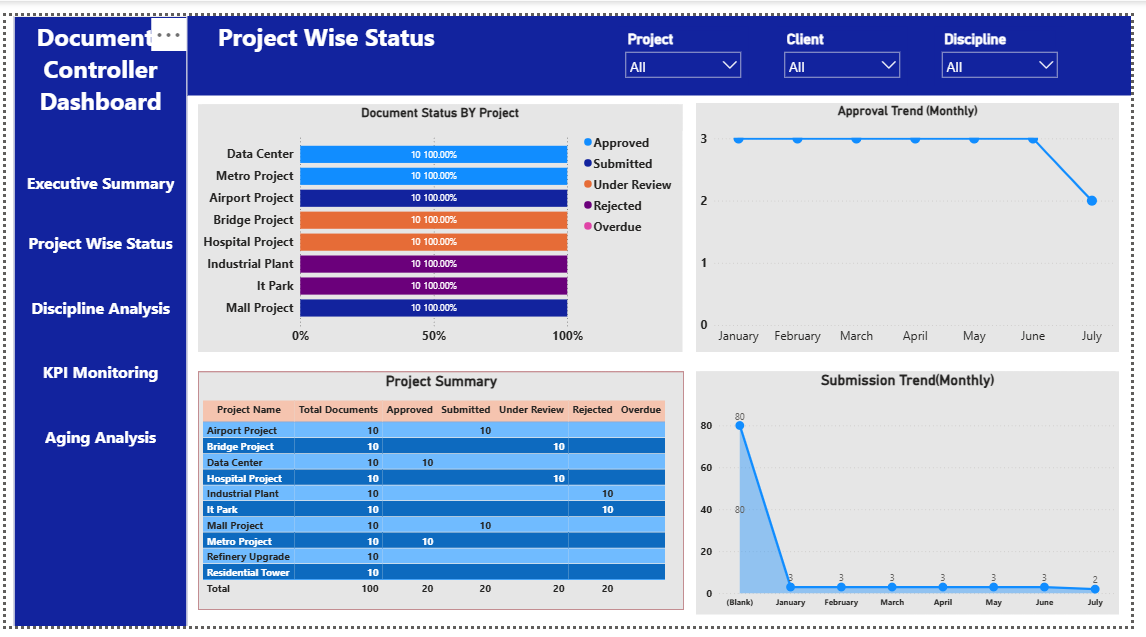

This screenshot's page, from the dashboard's own definition file:
{"tool":"powerbi","page":{"name":"Project wise status","canvas":[1500,813],"ordinal":1},"visuals":[{"type":"textbox","box":[10,0,232,814],"z":0,"group":"g1"},{"type":"actionButton","box":[10.6,177.4,230.7,63.9],"z":0},{"type":"actionButton","box":[10.6,253.7,230.7,63.9],"z":1000},{"type":"actionButton","box":[10.6,335.4,230.7,63.9],"z":2000},{"type":"actionButton","box":[10.6,417,230.7,63.9],"z":3000},{"type":"actionButton","box":[10.6,498.6,230.7,63.9],"z":4000},{"type":"group","id":"g1","title":"Group 1","box":[10,0,232,814],"z":5000},{"type":"textbox","box":[242,0,1258,106],"z":6000},{"type":"slicer","fields":{"Values":["Document Register.Project Name"]},"box":[816,14,174.1,79.3],"z":7000},{"type":"slicer","fields":{"Values":["Document Register.Status"]},"box":[1028,14,174.1,79.3],"z":8000},{"type":"slicer","fields":{"Values":["Document Register.Discipline"]},"box":[1238,14,174.1,79.3],"z":9000},{"type":"hundredPercentStackedBarChart","title":"Document Status BY Project","fields":{"Category":["Document Register.Project Name"],"Y":["Document Register.Approved","Document Register.Submitted","Document Register.Under Review","Document Register.Rejected","Document Register.Overdue"]},"box":[256,118,646,330],"z":10000},{"type":"areaChart","title":"Approval Trend (Monthly)","fields":{"Category":["Document Register.Approval Date.Variation.Date Hierarchy.Month"],"Y":["Document Register.Approved Documents"]},"box":[920,116,564,332],"z":11000},{"type":"actionButton","box":[10,187.1,232,67.4],"z":11000,"group":"g1"},{"type":"actionButton","box":[10,267.6,232,67.4],"z":12000,"group":"g1"},{"type":"tableEx","title":"Project Summary","fields":{"Values":["Document Register.Project Name","Document Register.Total Documents","Document Register.Approved","Document Register.Submitted","Document Register.Under Review","Document Register.Rejected","Document Register.Overdue"]},"box":[256,474,648,318],"z":12000},{"type":"actionButton","box":[10,353.7,232,67.4],"z":13000,"group":"g1"},{"type":"stackedAreaChart","title":"Submission Trend(Monthly)","fields":{"Y":["Document Register.Document Count"],"Category":["Document Register.Approval Date.Variation.Date Hierarchy.Month"]},"box":[920,474,564,324],"z":13000},{"type":"actionButton","box":[10,439.7,232,67.4],"z":14000,"group":"g1"},{"type":"actionButton","box":[10,525.8,232,67.4],"z":15000,"group":"g1"}]}

Visuals, with their boxes in screenshot pixels (x1, y1, x2, y2), scaled from the page's 1500x813 canvas onto the 1146x637 screenshot:
textbox: 8, 0, 185, 636
actionButton: 8, 139, 184, 189
actionButton: 8, 199, 184, 249
actionButton: 8, 263, 184, 313
actionButton: 8, 327, 184, 377
actionButton: 8, 391, 184, 441
"Group 1" group: 8, 0, 185, 636
textbox: 185, 0, 1145, 83
slicer - Document Register.Project Name: 623, 11, 756, 73
slicer - Document Register.Status: 785, 11, 918, 73
slicer - Document Register.Discipline: 946, 11, 1079, 73
"Document Status BY Project" hundredPercentStackedBarChart: 196, 92, 689, 351
"Approval Trend (Monthly)" areaChart: 703, 91, 1134, 351
actionButton: 8, 147, 185, 199
actionButton: 8, 210, 185, 262
"Project Summary" tableEx: 196, 371, 691, 621
actionButton: 8, 277, 185, 330
"Submission Trend(Monthly)" stackedAreaChart: 703, 371, 1134, 625
actionButton: 8, 345, 185, 397
actionButton: 8, 412, 185, 465
